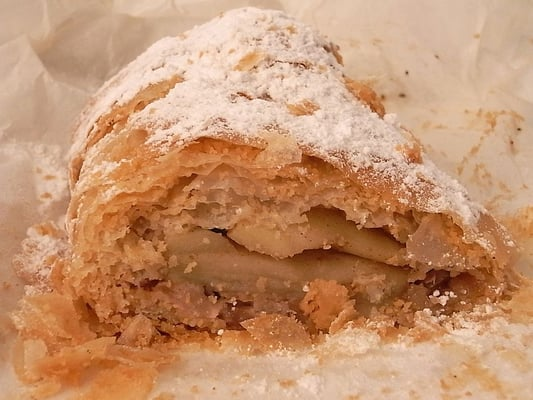sushi: (35, 5, 533, 397)
